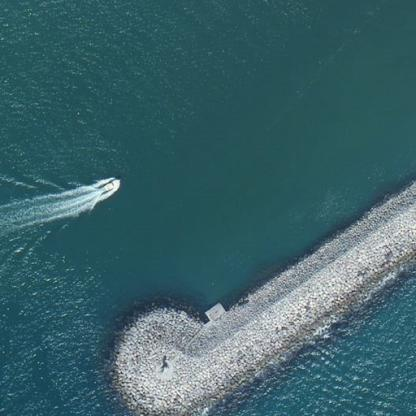ship: (93, 0, 121, 16)
